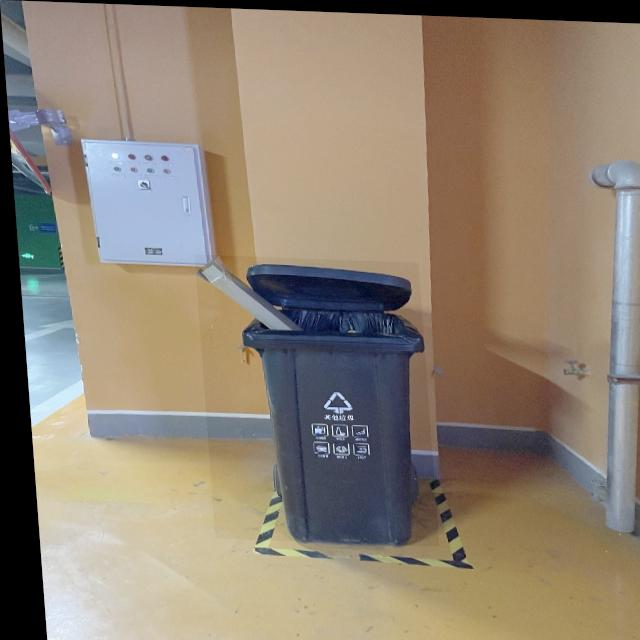overflow: (190, 253, 431, 544)
